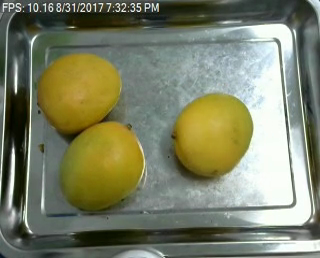Mango: (58, 121, 144, 211), (170, 92, 252, 177), (38, 53, 122, 134)
